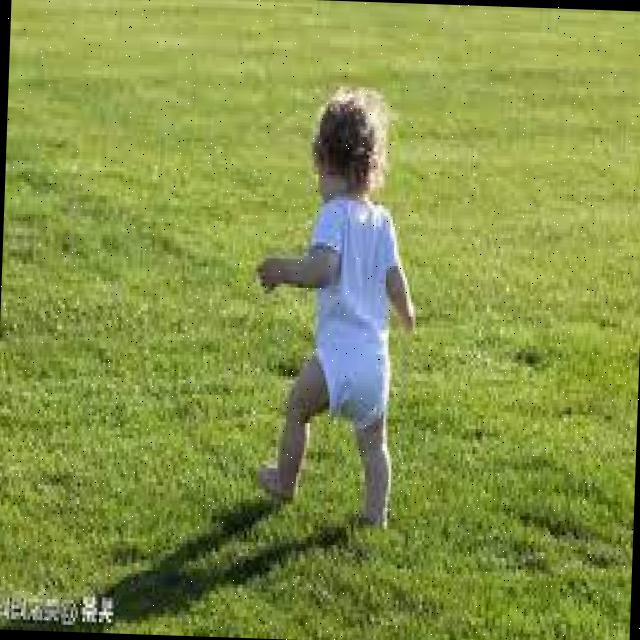Person: (247, 85, 418, 522)
